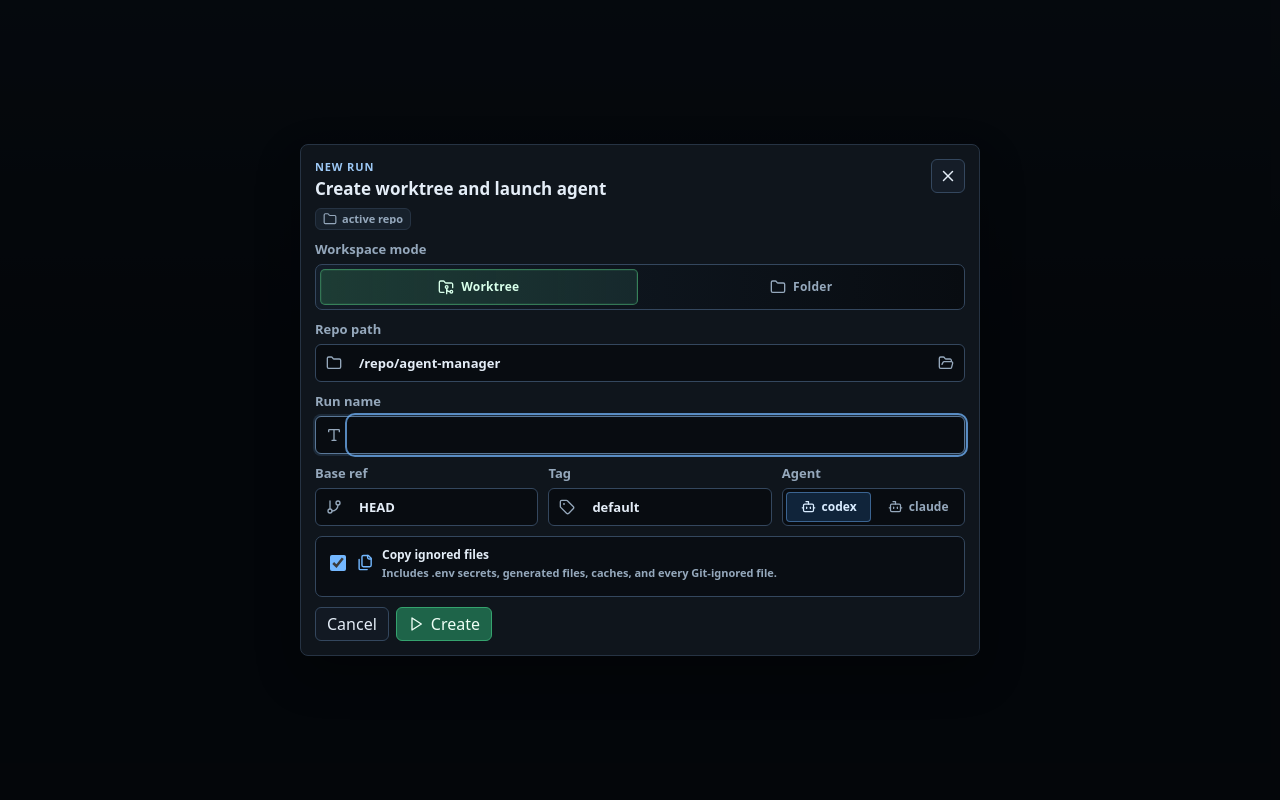
it: CreateRunModal › shows create-run errors in a read-only textbox
In the field labelled "Run name": (656, 435) [349, 417, 964, 453], type "fix-ui-color"
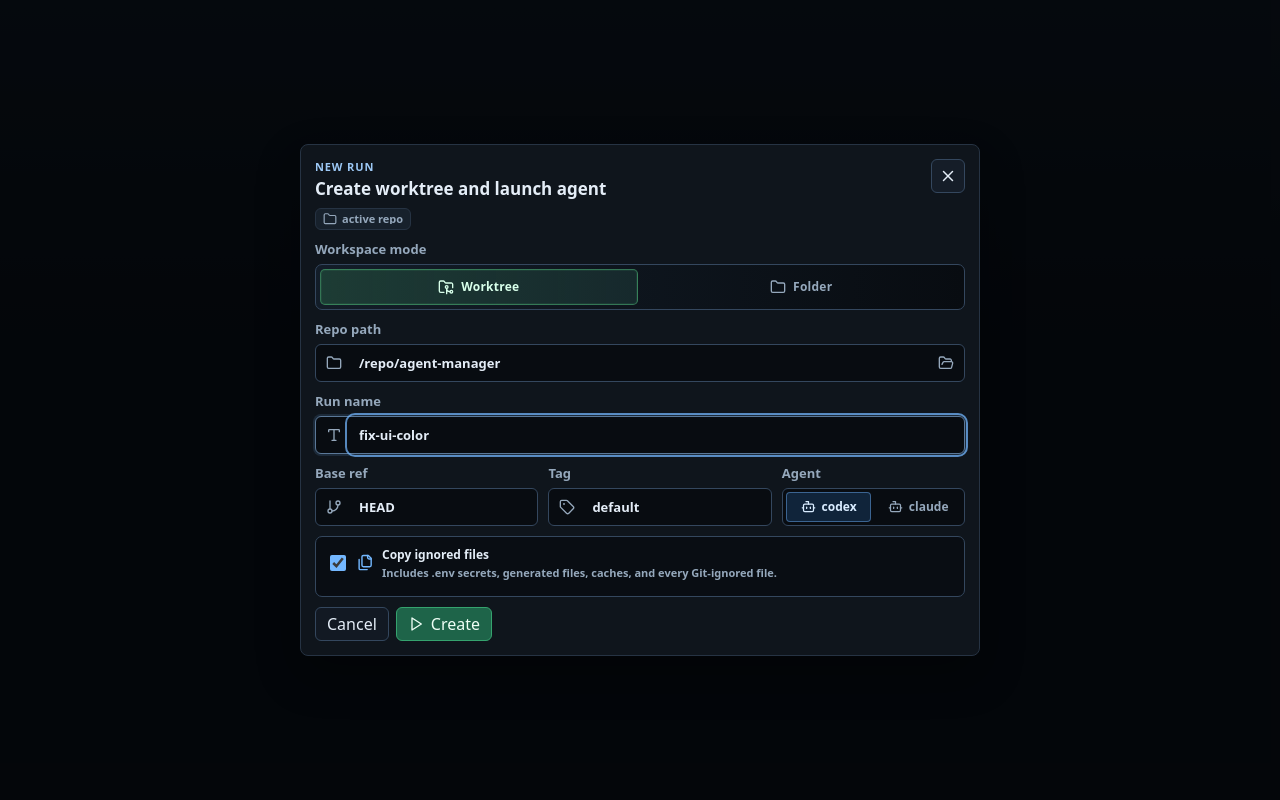
Click the button "Create": (444, 624) [396, 607, 492, 641]
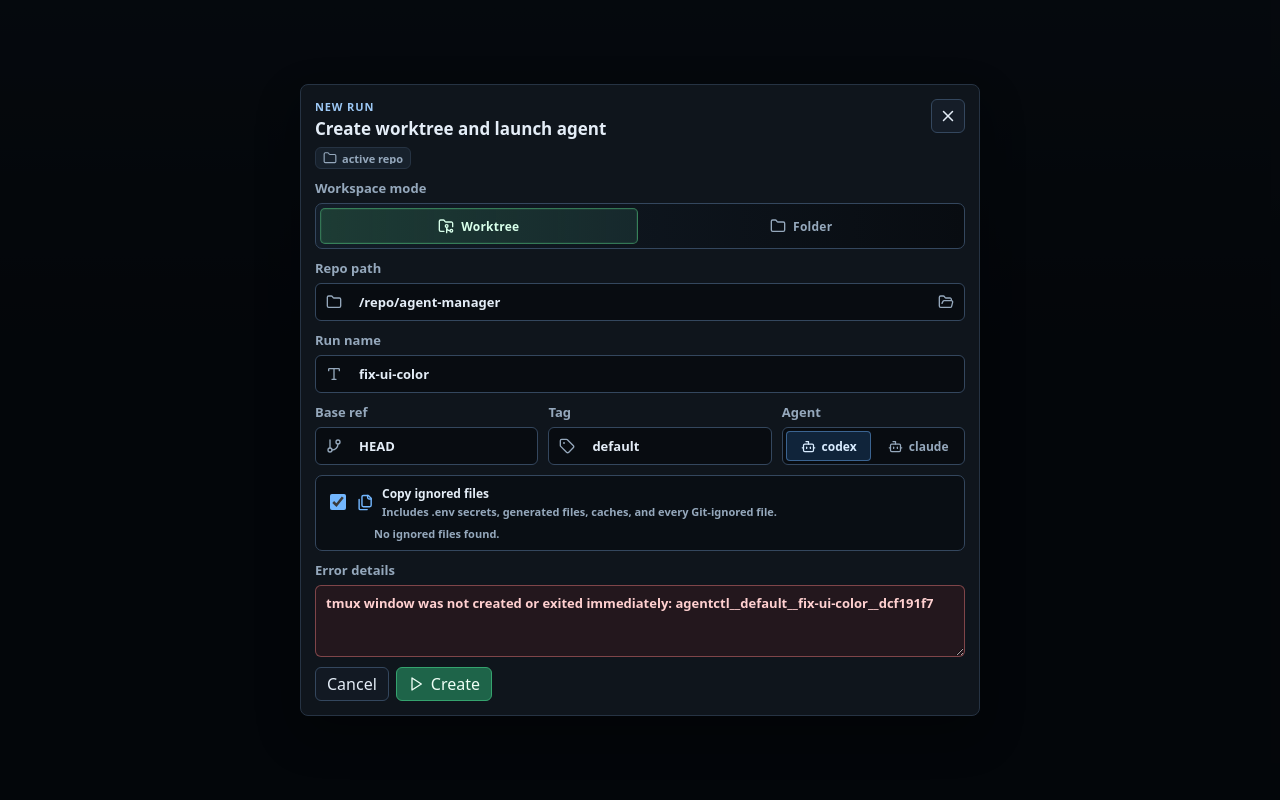
Check: the text box named "create run error details" holds "tmux window was not created or exited immediately: agentctl__default__fix-ui-color__dcf191f7", box [315, 585, 965, 657]
